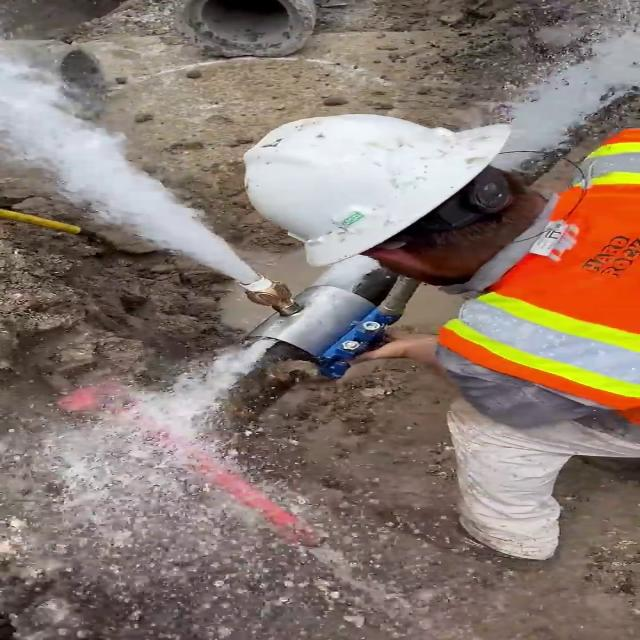leak: (0, 340, 433, 640), (301, 15, 640, 296), (0, 0, 267, 288)
